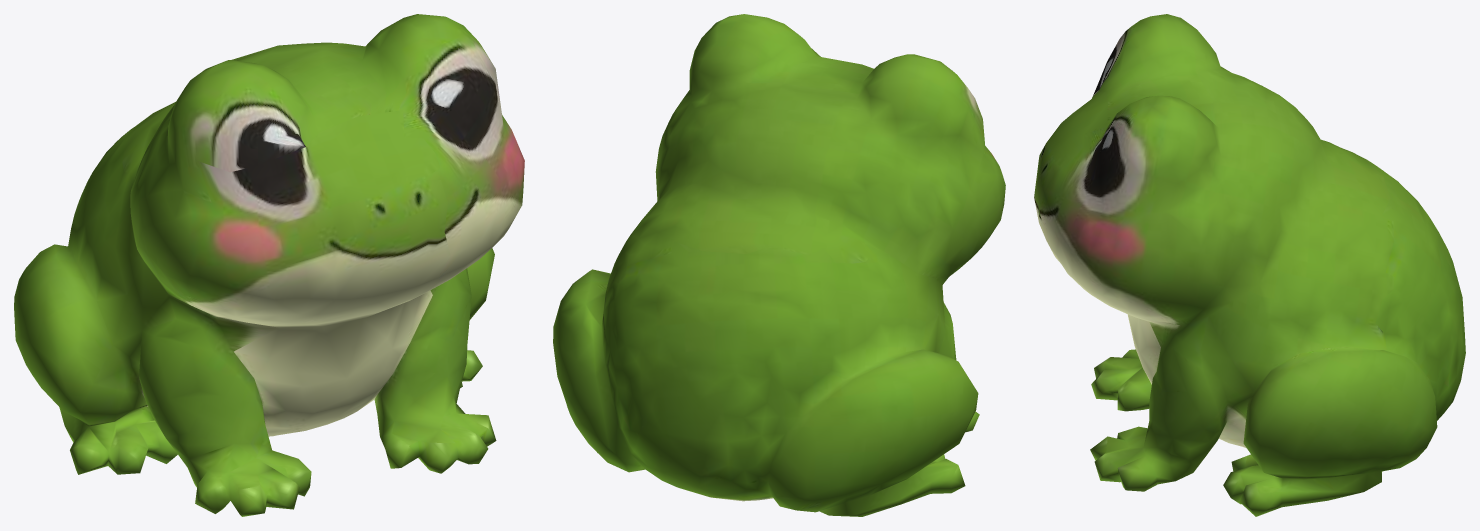
Rendered from frog.glb.
3 views of the same model, side by side, from view 1: azimuth 30°, elevation 25°; view 2: azimuth 150°, elevation 25°; view 3: azimuth 270°, elevation 25° (orthographic). The views are drawn at different scales.
Parts seen in each view (by area): view 1: model; view 2: model; view 3: model.
Part boxes in pixels (<box>): model: <box>14,14,524,516</box>; model: <box>553,14,1005,516</box>; model: <box>1034,14,1465,516</box>.
Size of the model in its own units: 1.9 by 1.74 by 1.81.
1 material, 1 textured.
